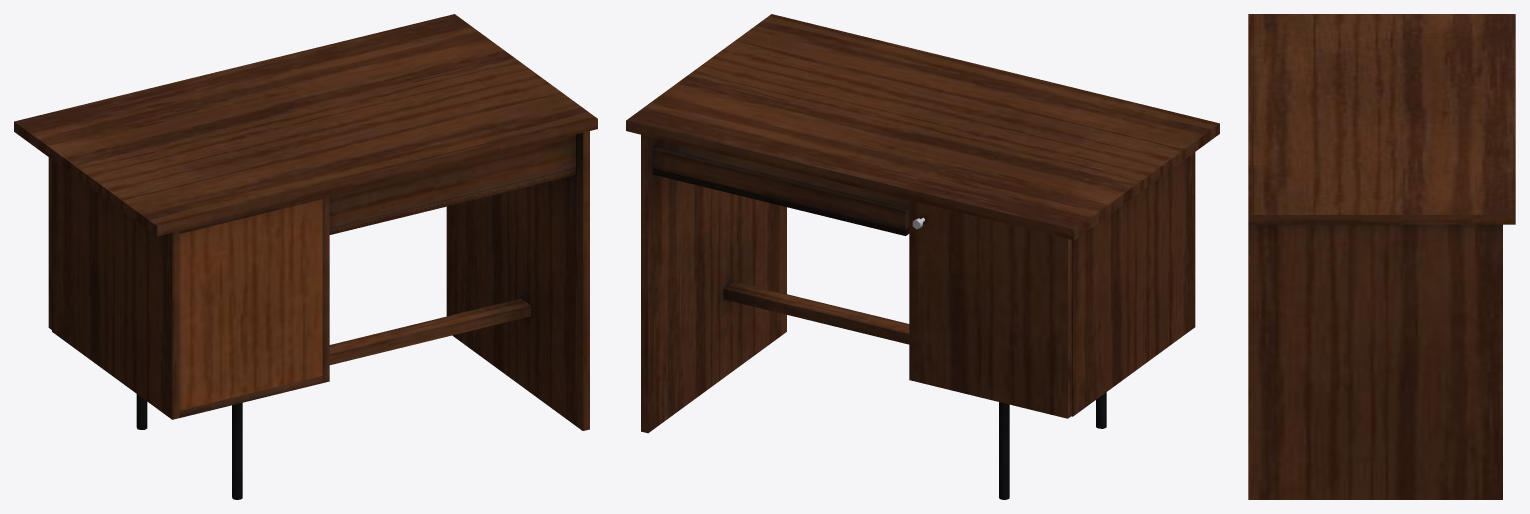
The model's file is desk_side_cabinet_lod1_web.glb.
3 views of the same model, side by side, from view 1: azimuth 30°, elevation 25°; view 2: azimuth 150°, elevation 25°; view 3: azimuth 270°, elevation 25° (orthographic). The views are drawn at different scales.
Parts seen in each view (by area): view 1: DeskSideCabinet_Body, Door_1_Mesh; view 2: DeskSideCabinet_Body, Door_1_Mesh; view 3: DeskSideCabinet_Body.
Boxes of the visible parts, left/top/right/bottom form: DeskSideCabinet_Body: left=14, top=14, right=597, bottom=499; Door_1_Mesh: left=48, top=157, right=51, bottom=329; DeskSideCabinet_Body: left=626, top=14, right=1219, bottom=499; Door_1_Mesh: left=909, top=200, right=1071, bottom=418; DeskSideCabinet_Body: left=1248, top=14, right=1515, bottom=499.
Size of the model in its own units: 1.12 by 0.75 by 0.63.
2 materials, 2 textured.
